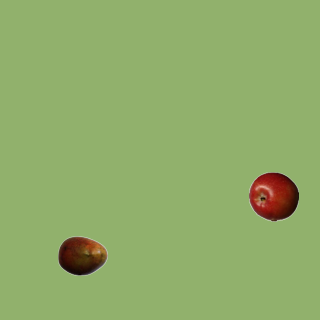Apple Braeburn: (248, 171, 298, 221)
Mango Red: (57, 230, 107, 280)
